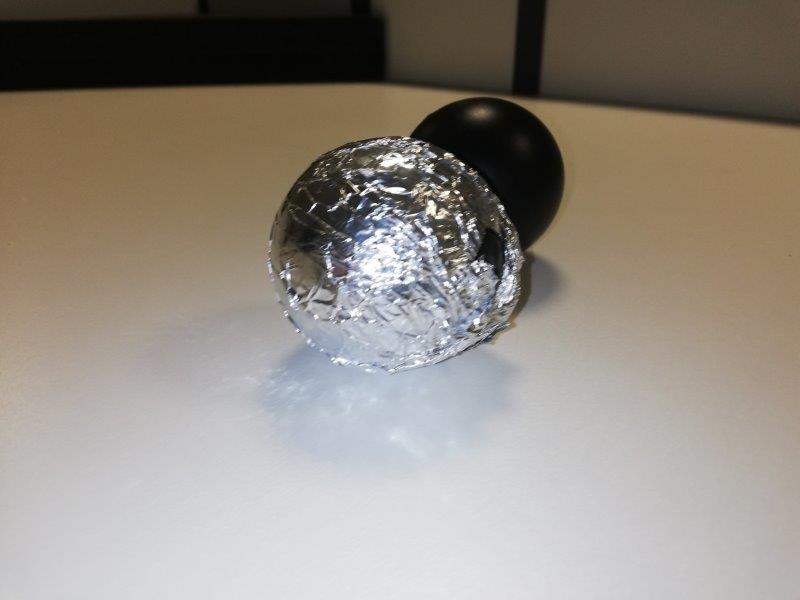bianca: (269, 134, 517, 371)
nera: (404, 98, 567, 251)
